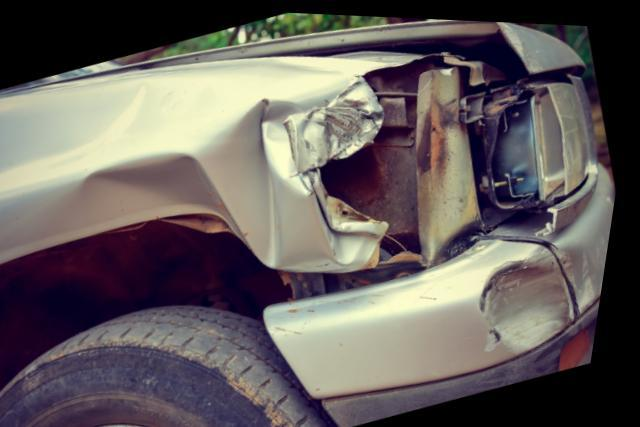dent: (80, 73, 385, 267), (489, 248, 581, 344), (559, 236, 607, 306)
dislocated part: (274, 200, 596, 425), (40, 16, 587, 87)
no part: (323, 49, 550, 261)
